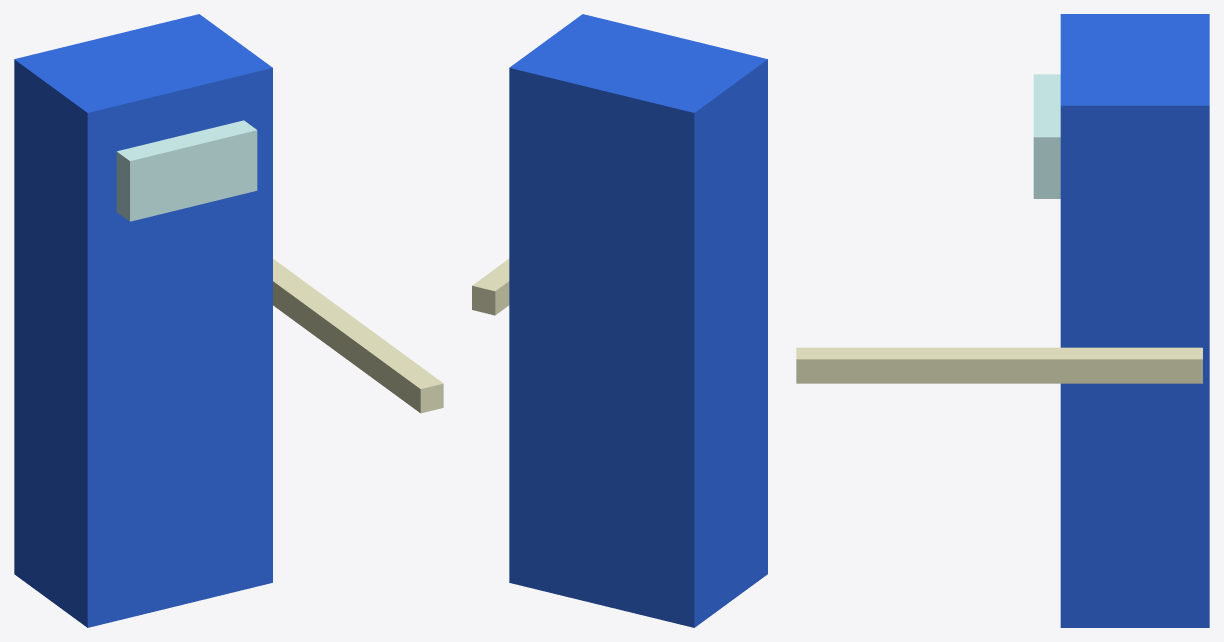
Rendered from slowPlayer.obj.
3 views of the same model, side by side, from view 1: azimuth 30°, elevation 25°; view 2: azimuth 150°, elevation 25°; view 3: azimuth 270°, elevation 25° (orthographic).
Bounding box in the file's own units: 0.78 × 1.7 × 1.22.
